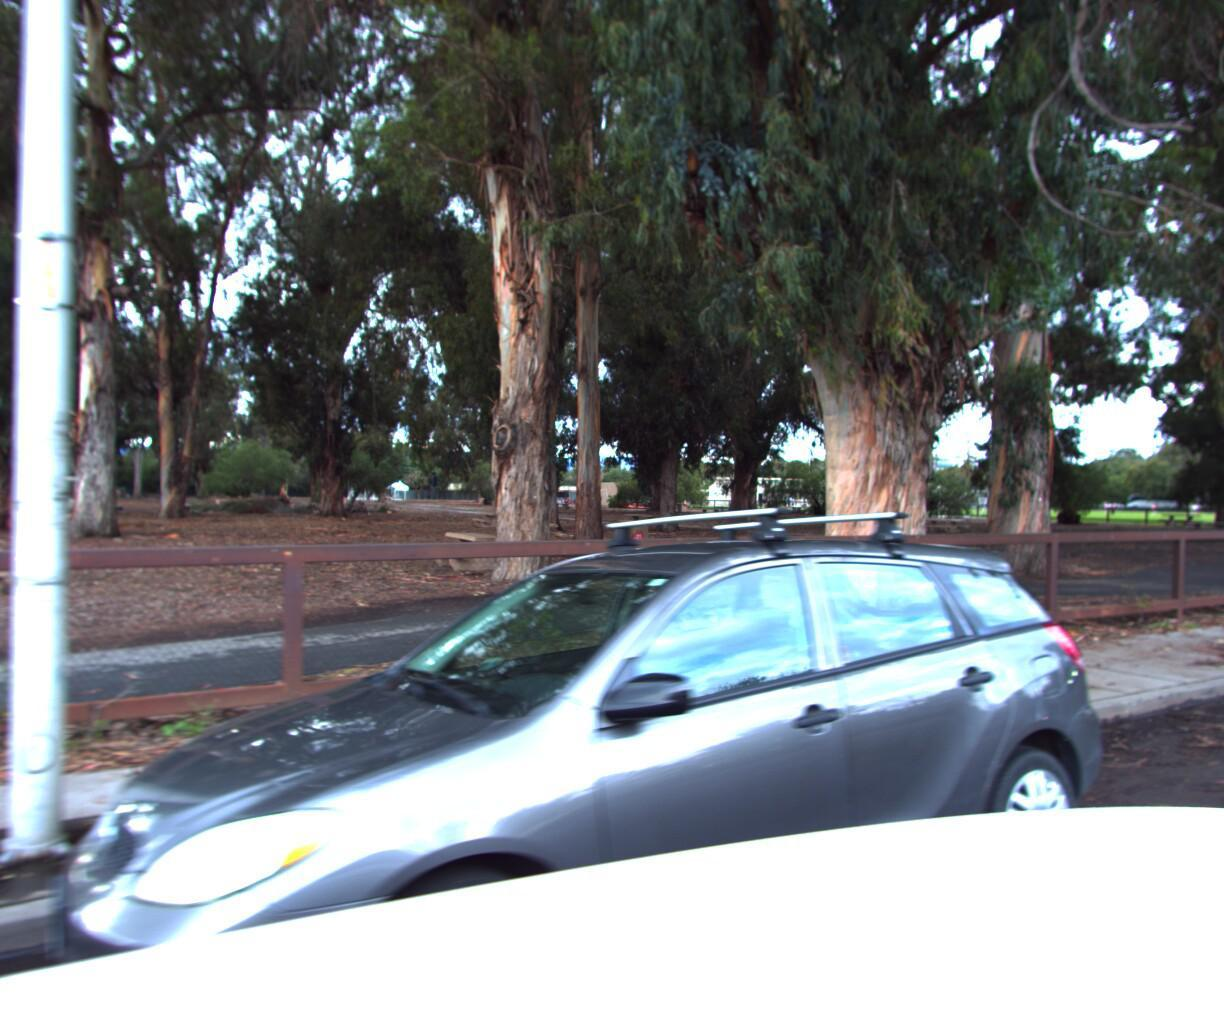car: (67, 502, 1211, 1024)
